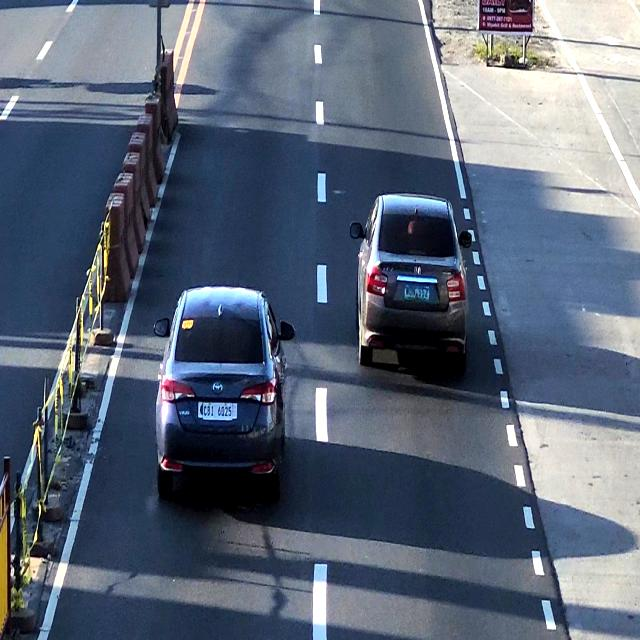Car: (158, 287, 282, 497), (352, 197, 463, 360)
License-Plate: (197, 401, 237, 424), (401, 281, 433, 305)
